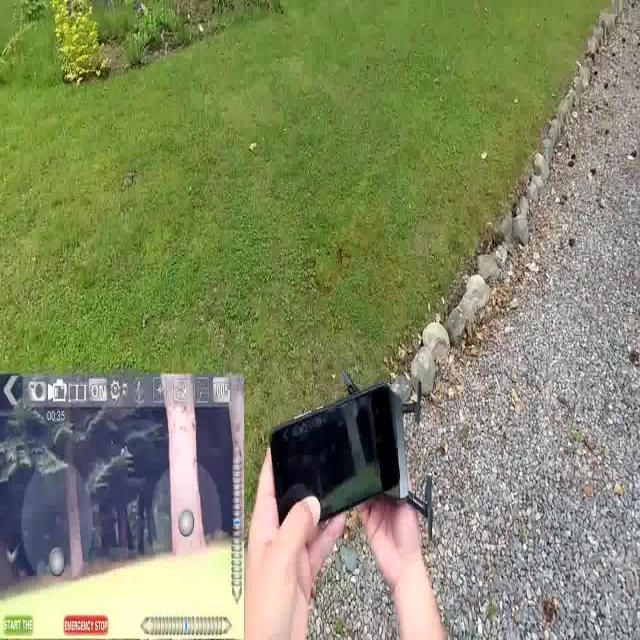drones: (330, 368, 440, 538)
